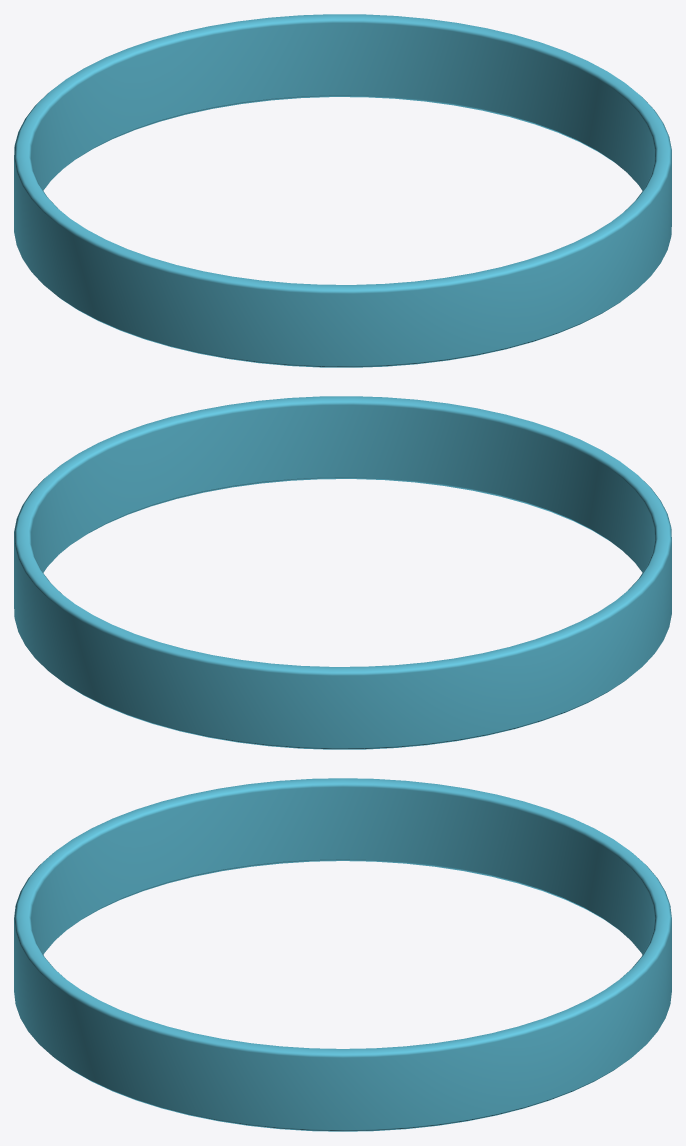
3 renders of one model, top to bottom at view 1: azimuth 30°, elevation 25°; view 2: azimuth 150°, elevation 25°; view 3: azimuth 270°, elevation 25°, orthographic.
Visible parts, largest first — view 1: seal_body; view 2: seal_body; view 3: seal_body.
Boxes of the visible parts, <box> form: seal_body: <box>14,14,671,367</box>; seal_body: <box>14,396,671,749</box>; seal_body: <box>14,778,671,1131</box>.
Bounding box in the file's own units: 0.1207 × 0.0159 × 0.1207.
